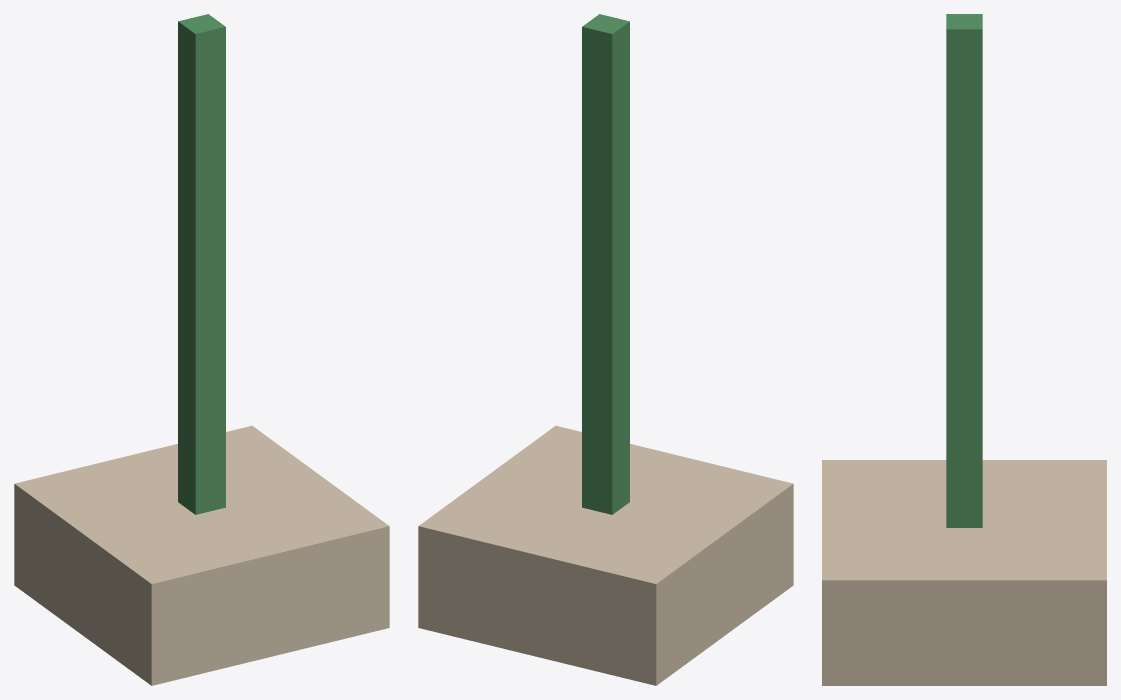
File: bh_waterfront_palm_planter_01_lod0.glb
3 views of the same model, side by side, from view 1: azimuth 30°, elevation 25°; view 2: azimuth 150°, elevation 25°; view 3: azimuth 270°, elevation 25° (orthographic). The views are drawn at different scales.
Visible parts, largest first — view 1: bh_waterfront_palm_planter_01_planter, bh_waterfront_palm_planter_01_palm_proxy; view 2: bh_waterfront_palm_planter_01_planter, bh_waterfront_palm_planter_01_palm_proxy; view 3: bh_waterfront_palm_planter_01_planter, bh_waterfront_palm_planter_01_palm_proxy.
Boxes of the visible parts, bbox=[...] form: bh_waterfront_palm_planter_01_planter: bbox=[14, 425, 389, 685]; bh_waterfront_palm_planter_01_palm_proxy: bbox=[178, 14, 225, 514]; bh_waterfront_palm_planter_01_planter: bbox=[418, 425, 793, 685]; bh_waterfront_palm_planter_01_palm_proxy: bbox=[582, 14, 629, 514]; bh_waterfront_palm_planter_01_planter: bbox=[822, 460, 1106, 685]; bh_waterfront_palm_planter_01_palm_proxy: bbox=[946, 14, 982, 527].
Bounding box in the file's own units: 2.2 × 5.15 × 2.2.
